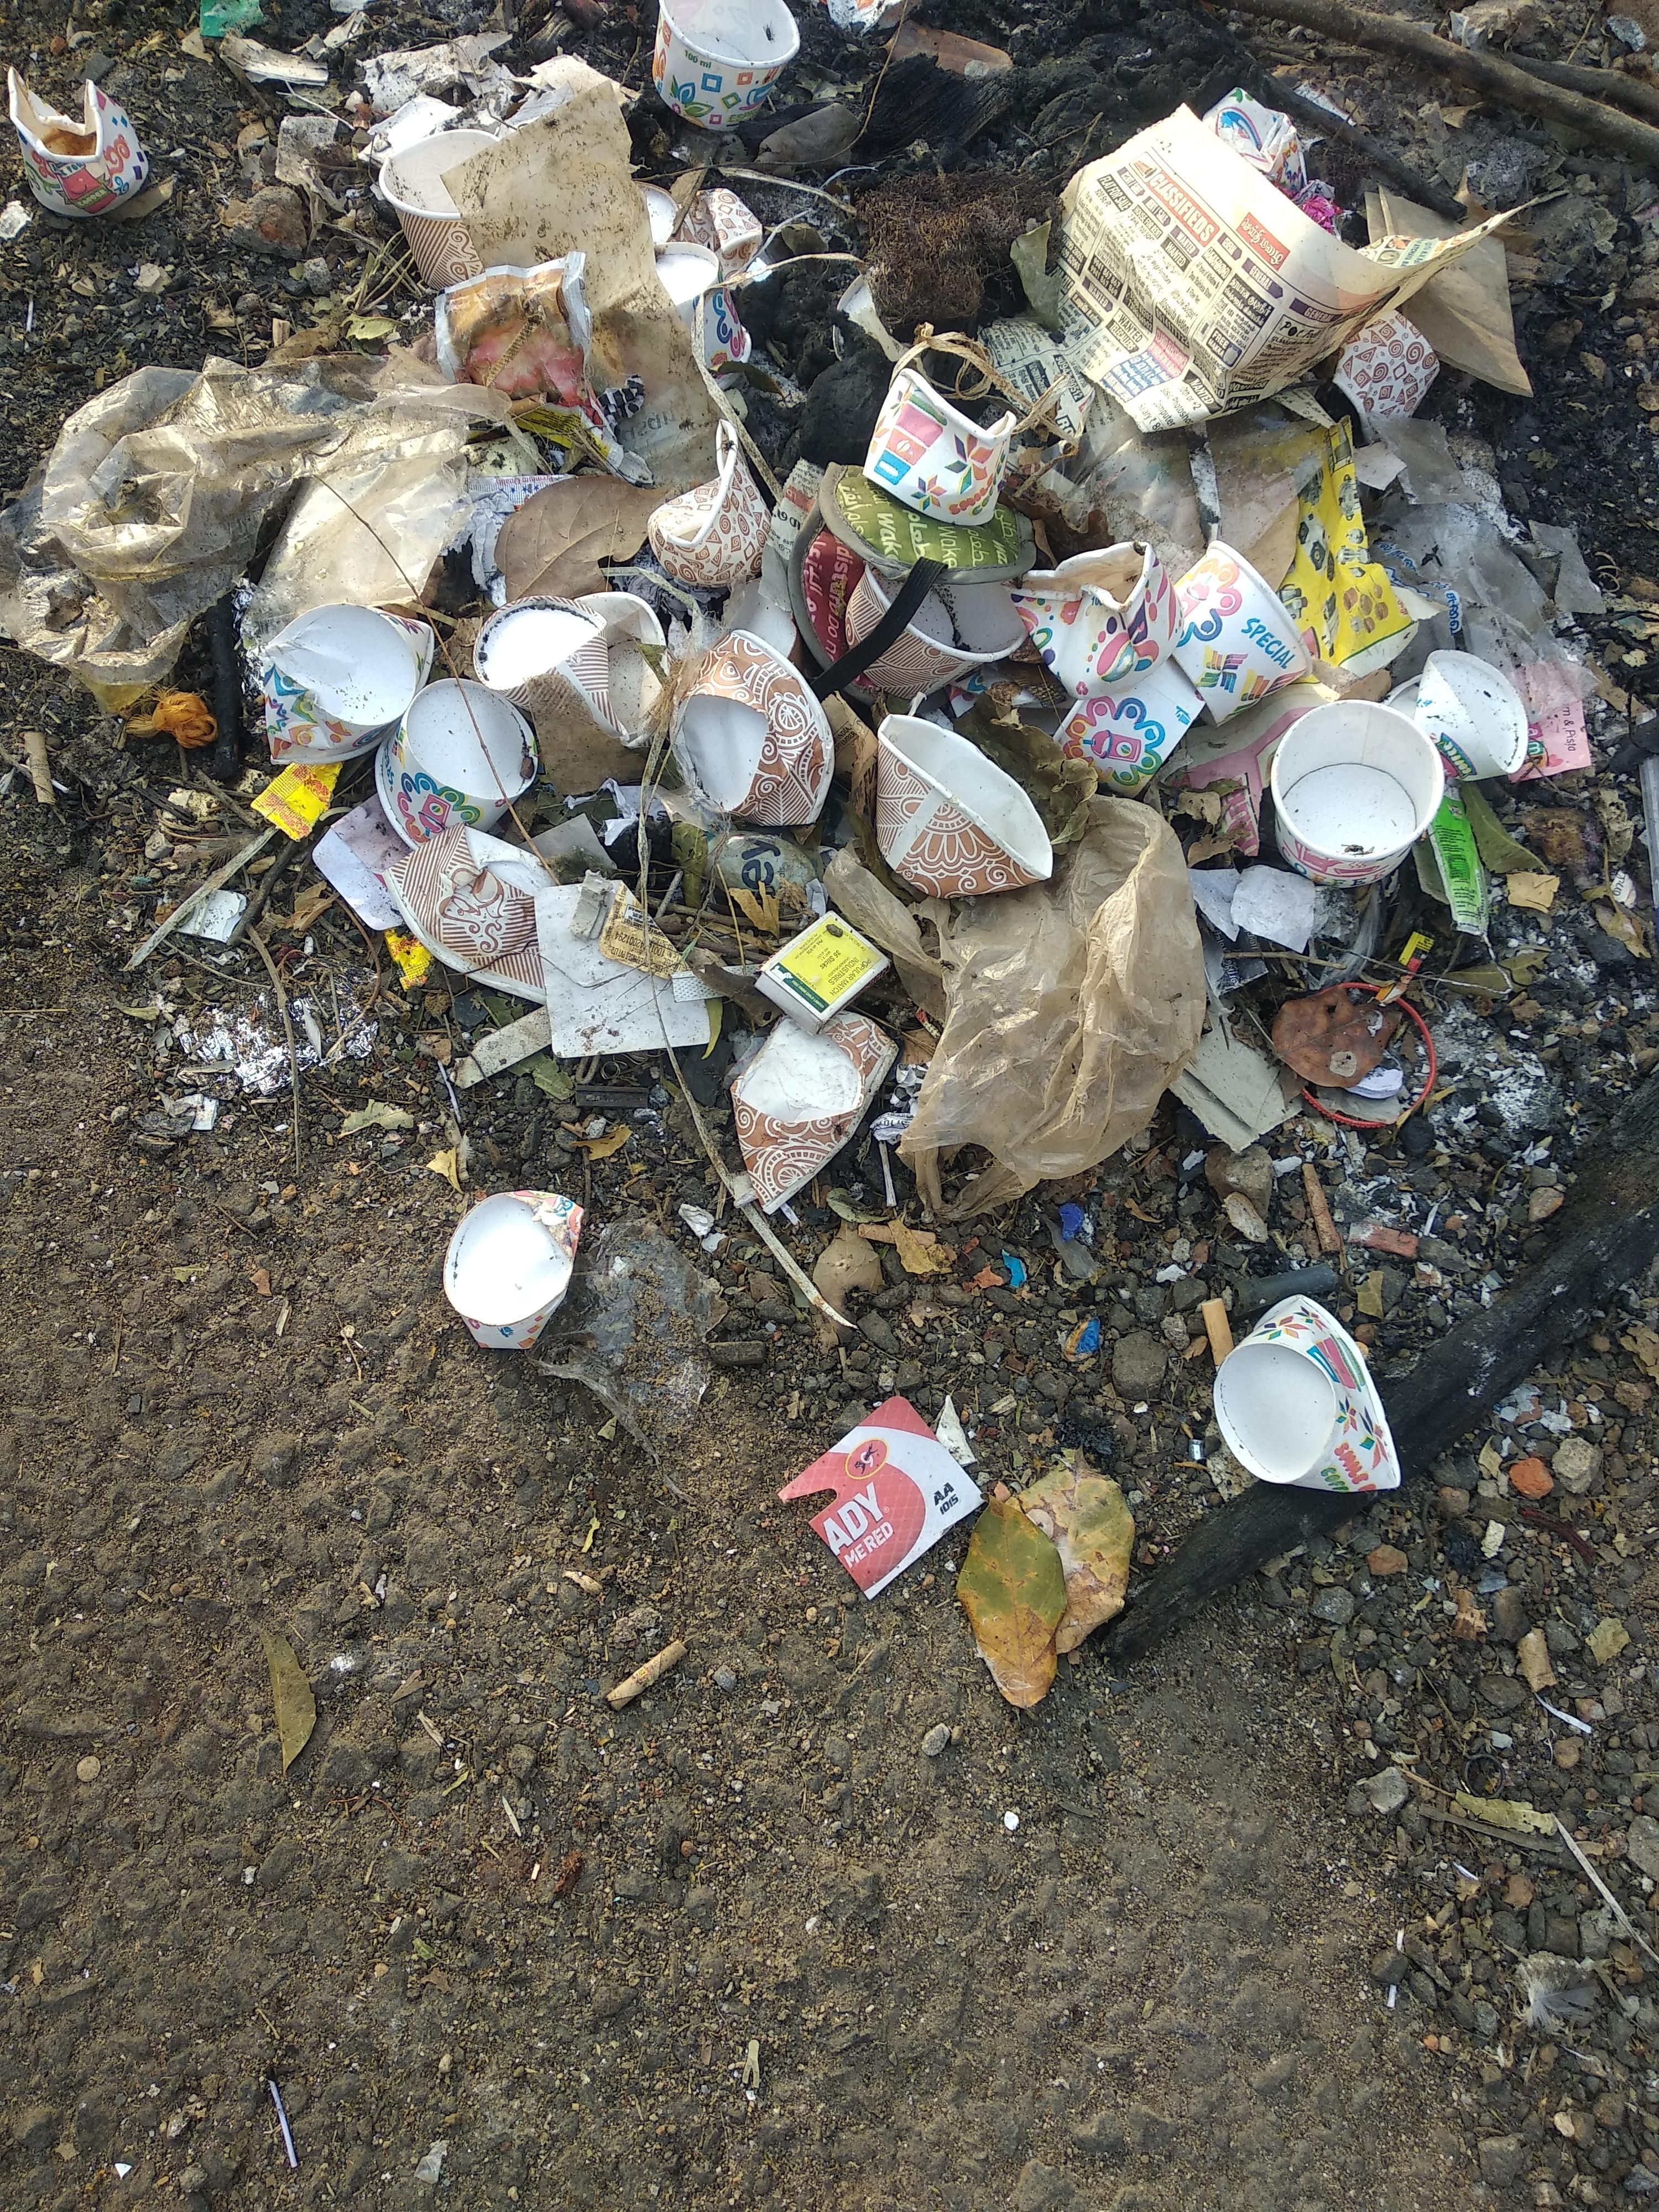trash: (17, 2, 1659, 1716)
